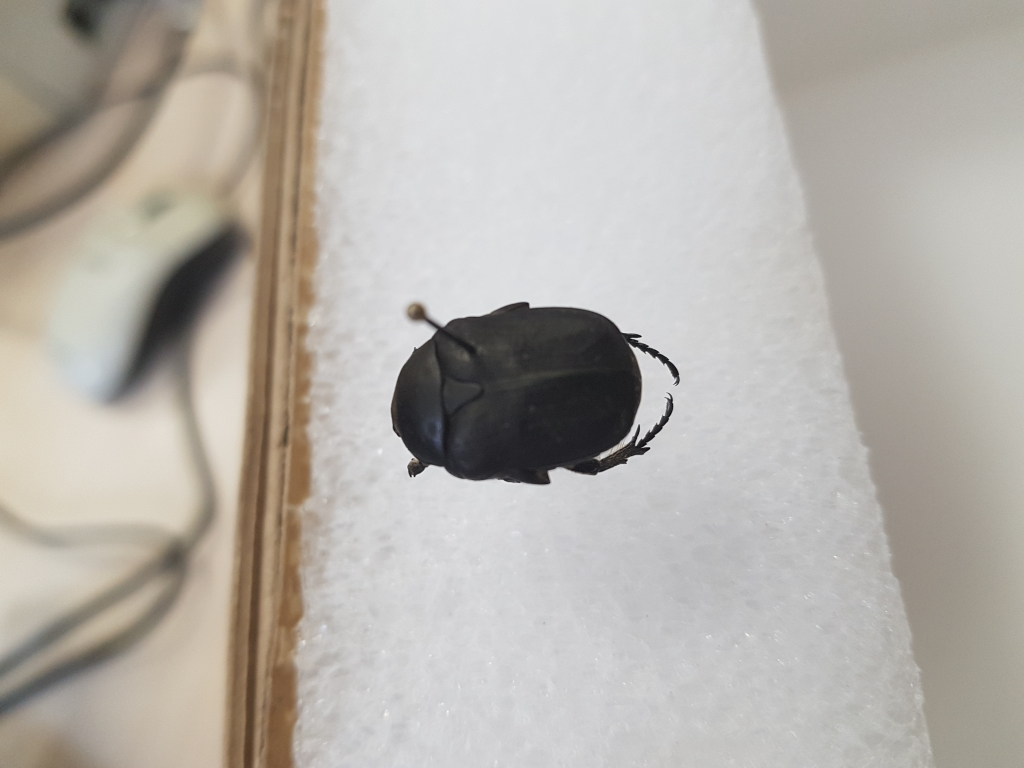Protaetia_asiatica: (385, 295, 687, 500)
